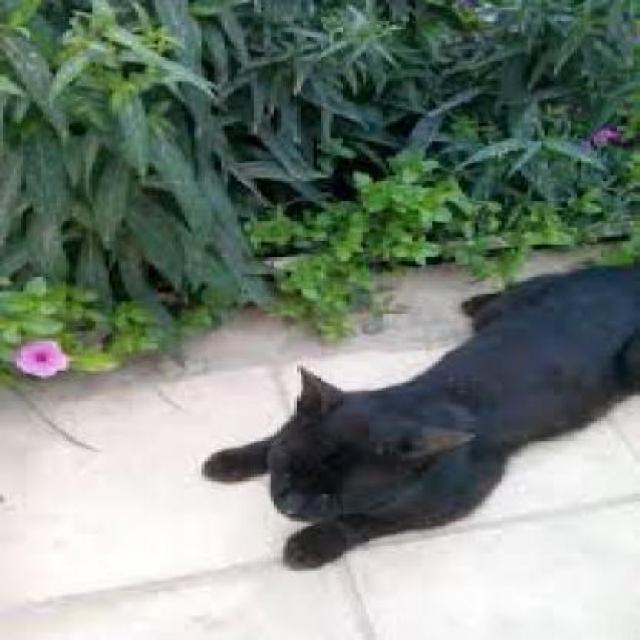animals: (168, 262, 637, 598)
